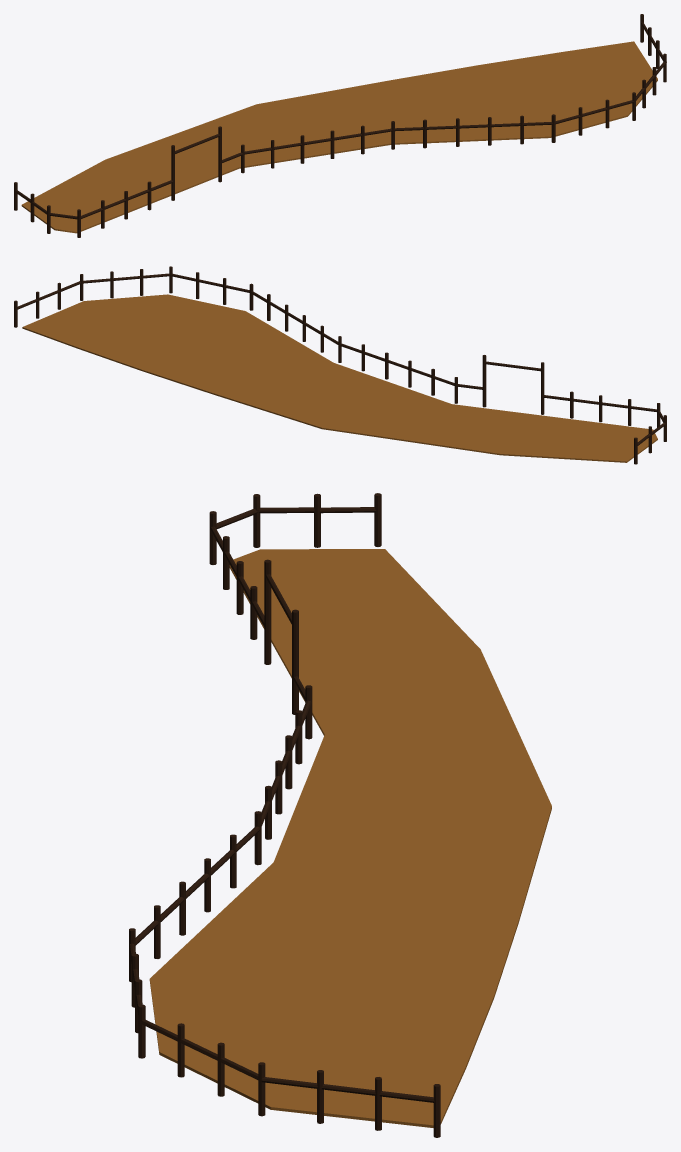
File: Field_Bottom_Left.fbx
3 renders of one model, top to bottom at view 1: azimuth 30°, elevation 25°; view 2: azimuth 150°, elevation 25°; view 3: azimuth 270°, elevation 25°, orthographic. The views are drawn at different scales.
Visible parts, largest first — view 1: FieldBottomLeft; view 2: FieldBottomLeft; view 3: FieldBottomLeft.
Part boxes in pixels (<box>): FieldBottomLeft: <box>14,14,666,237</box>; FieldBottomLeft: <box>14,266,666,464</box>; FieldBottomLeft: <box>129,493,551,1137</box>.
Size of the model in its own units: 43.76 by 3.52 by 13.18.
